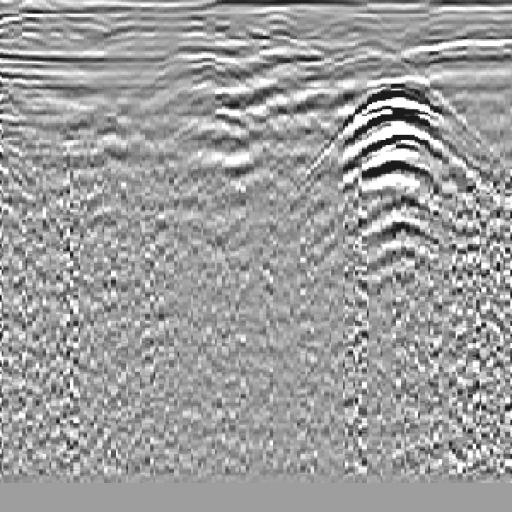metalic: (316, 76, 483, 280)
